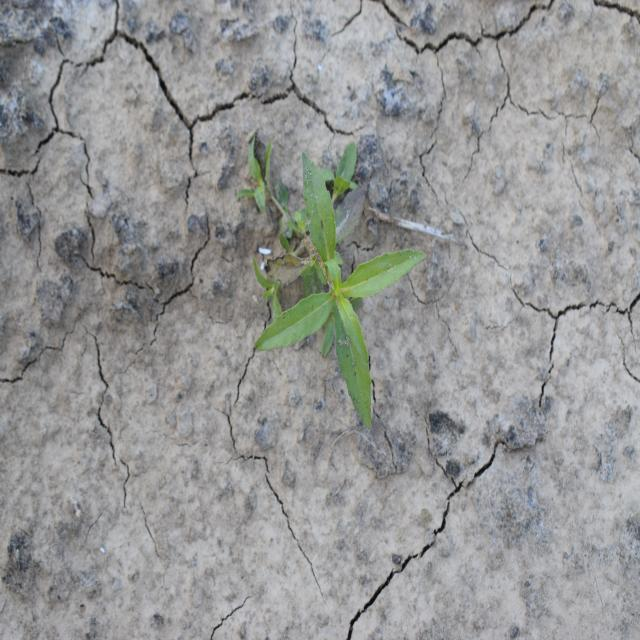Eclipta: (234, 130, 428, 432)
